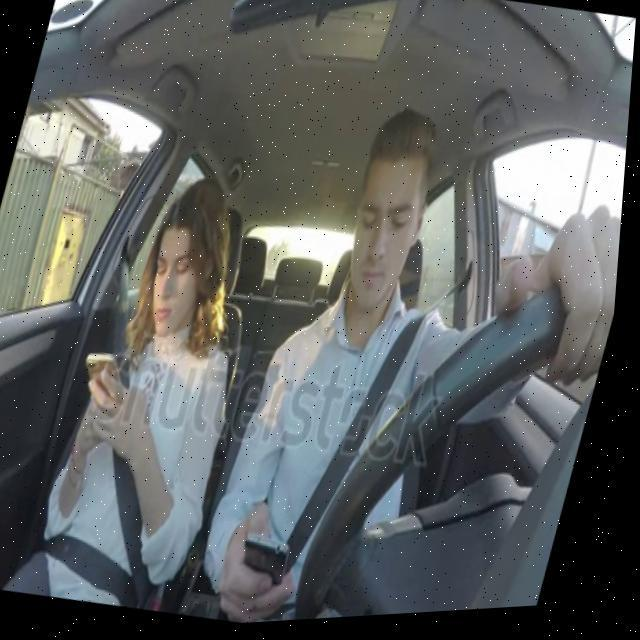PhoneCall: (242, 535, 304, 601), (78, 350, 136, 412)
